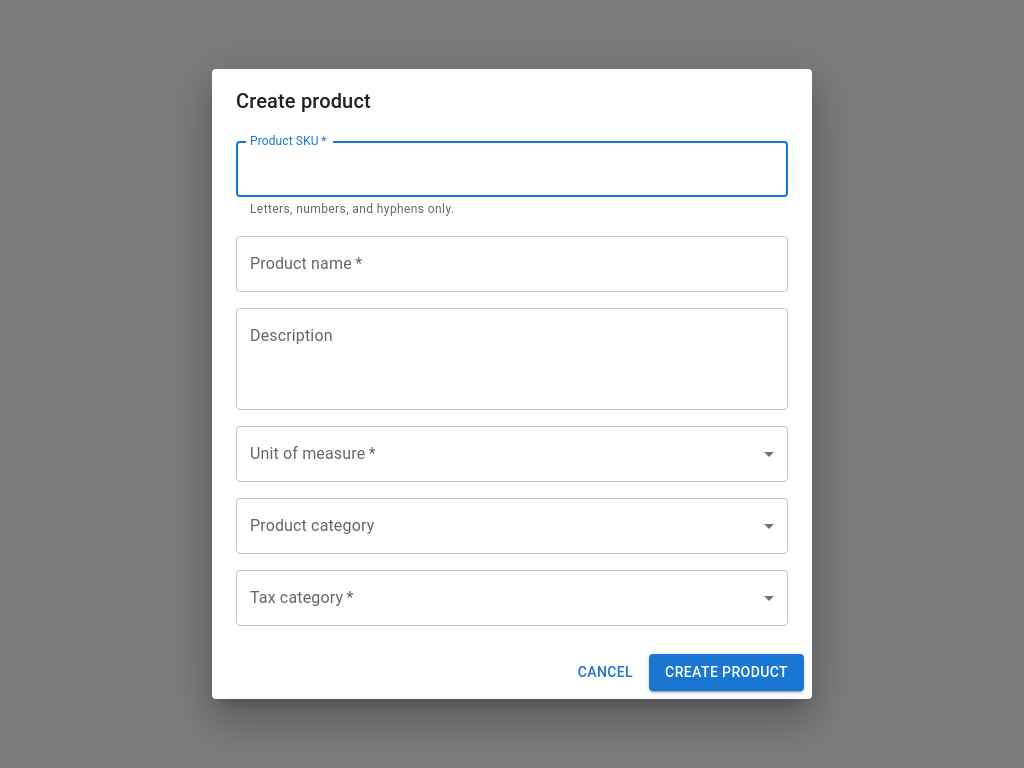
Test: CreateProductDialog › requires mandatory fields
What coordinates should you click on to do the following:
click the button "Create product"
I would click on:
 (727, 672)
Its box is [649,654,804,691].
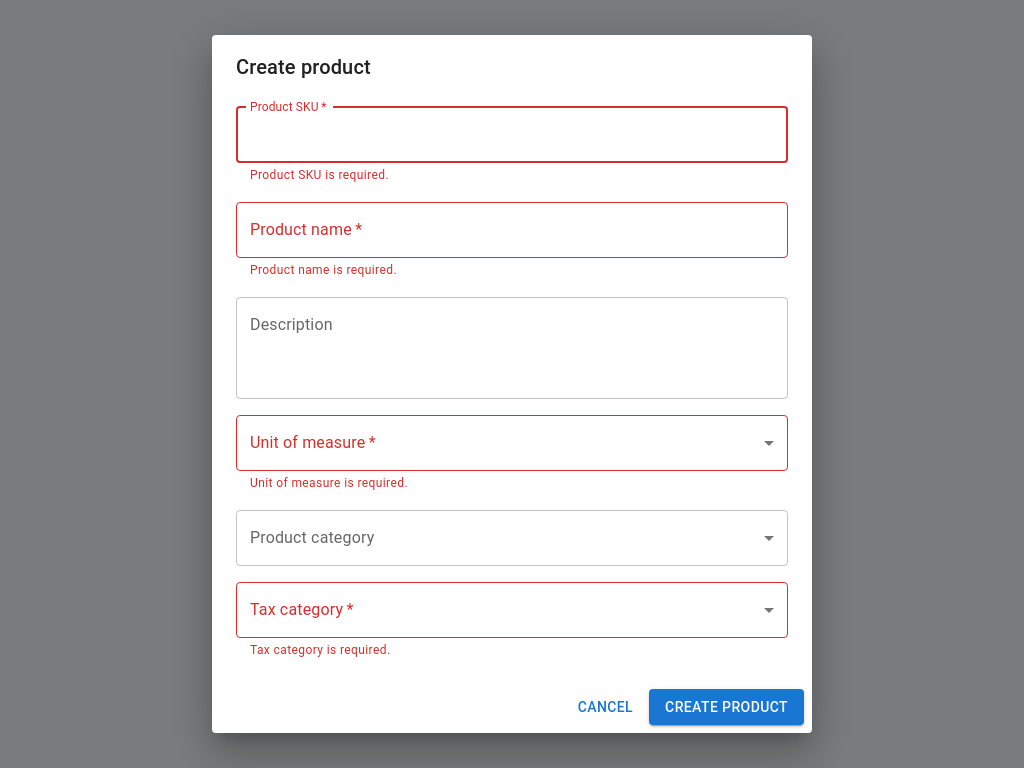
expect the text "Product SKU is required." is shown: met, box [250,168,389,182]
expect the text "Product name is required." is shown: met, box [250,263,397,277]
expect the text "Unit of measure is required." is shown: met, box [250,476,408,490]
